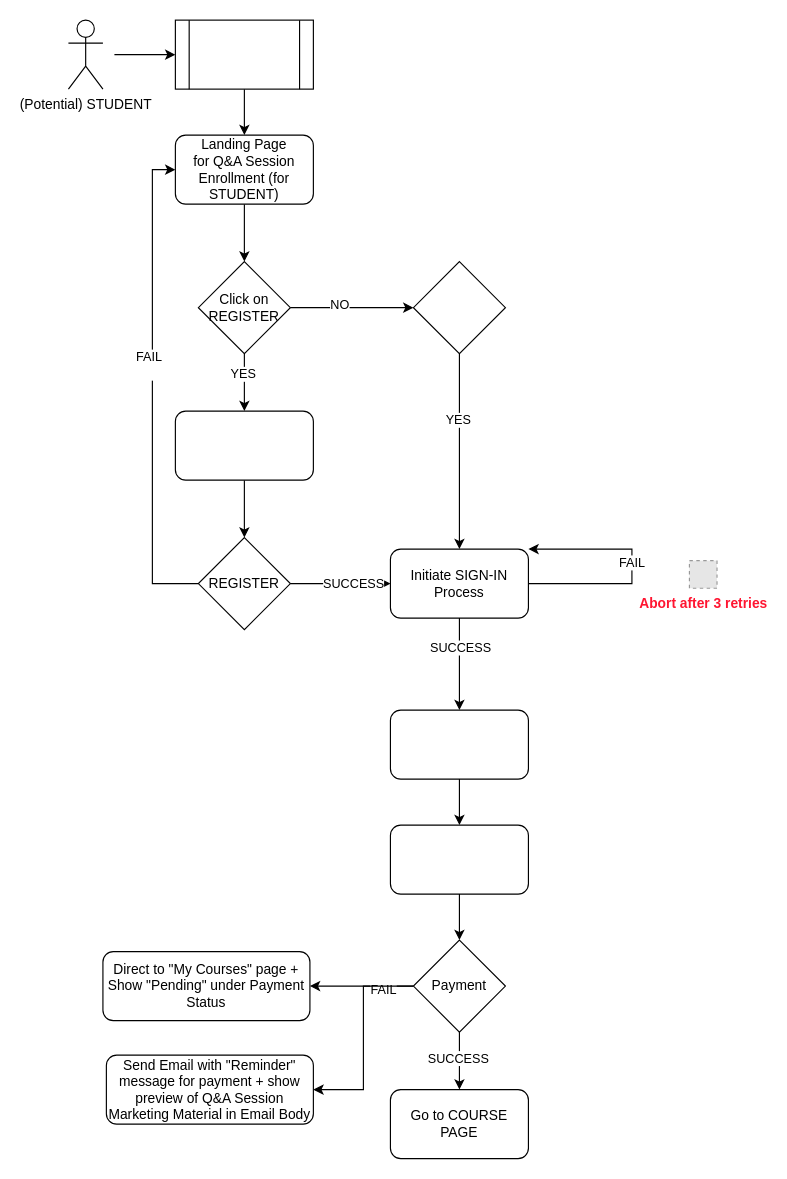
Some shapes in this 787 by 1179 pixel diagram are drawn without their labels. Grey dashed boxes stand in for pictures. The box of each missing label's shape, as (x1, y1, x2, y2) in pixels:
Auto-Enroll for Q&A Session: (389, 709, 528, 779)
Click on Marketing Link: (174, 19, 313, 89)
Click on SIGN-IN: (412, 260, 505, 354)
Direct to IPG: (389, 824, 528, 894)
Direct to USER REGISTRATION Page: (174, 410, 313, 480)
